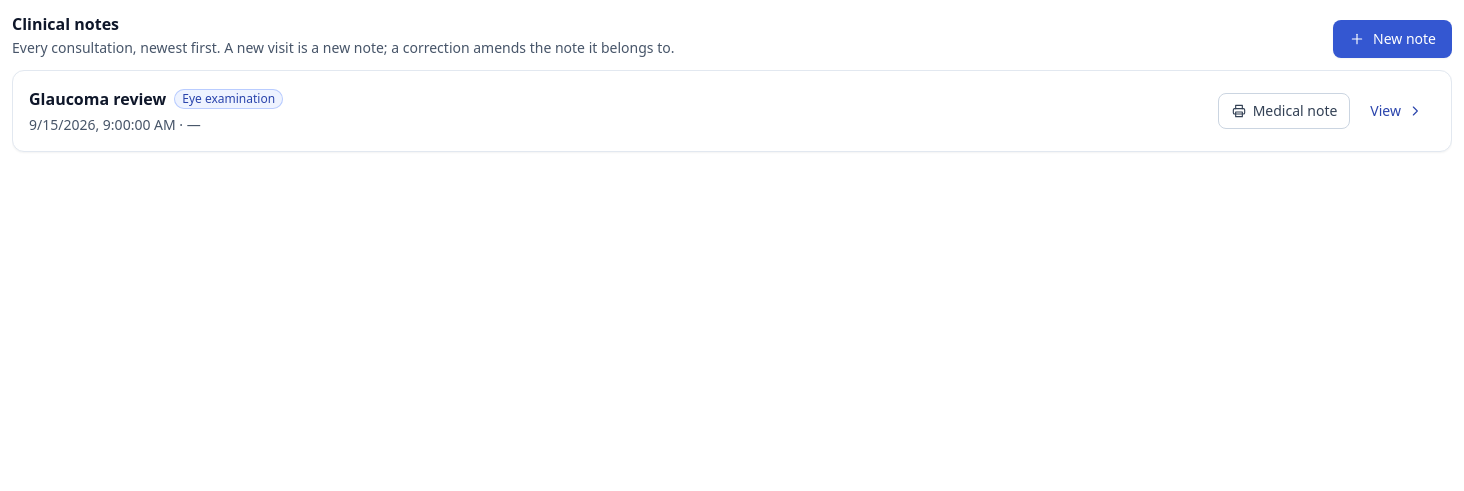
Test case: the eye doctor's consultation note › shows a locked note's examination read-only, without the empty rows
The width and height of the screenshot is (1464, 491).
Expected: the text "Eye examination" is shown, [174,89,283,109]
Click the button "Glaucoma review Eye examination 9/15/2026, 9:00:00 AM · —" at (98, 99), box [29,87,1206,135]
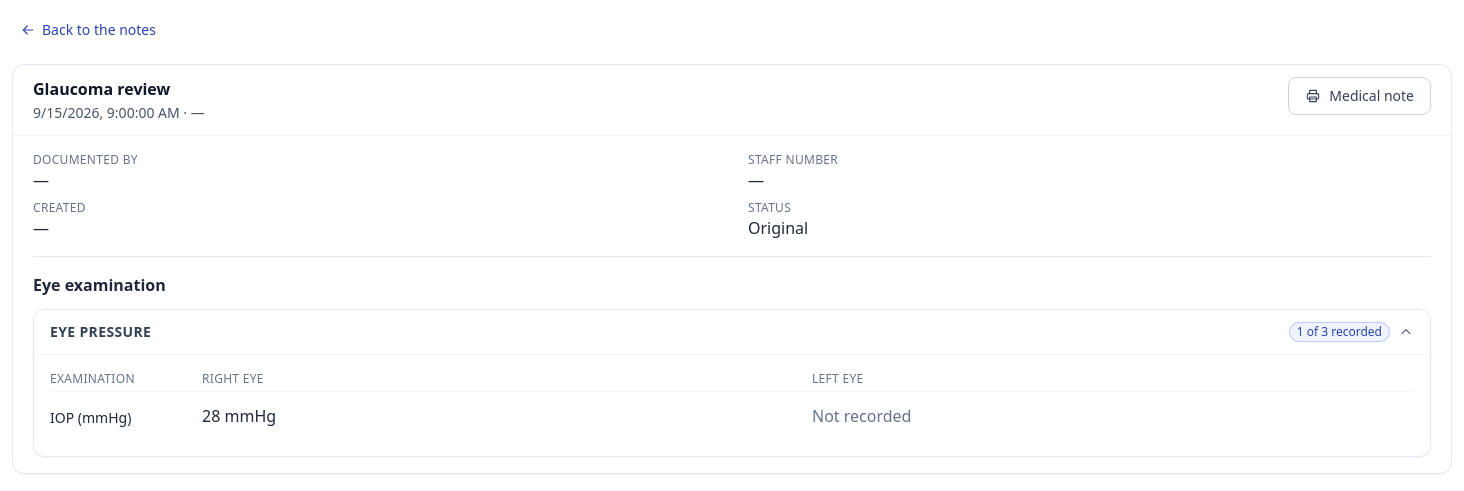
Result: the text named "IOP (mmHg) — right eye" reads "28 mmHg" at [202,405,276,427]
